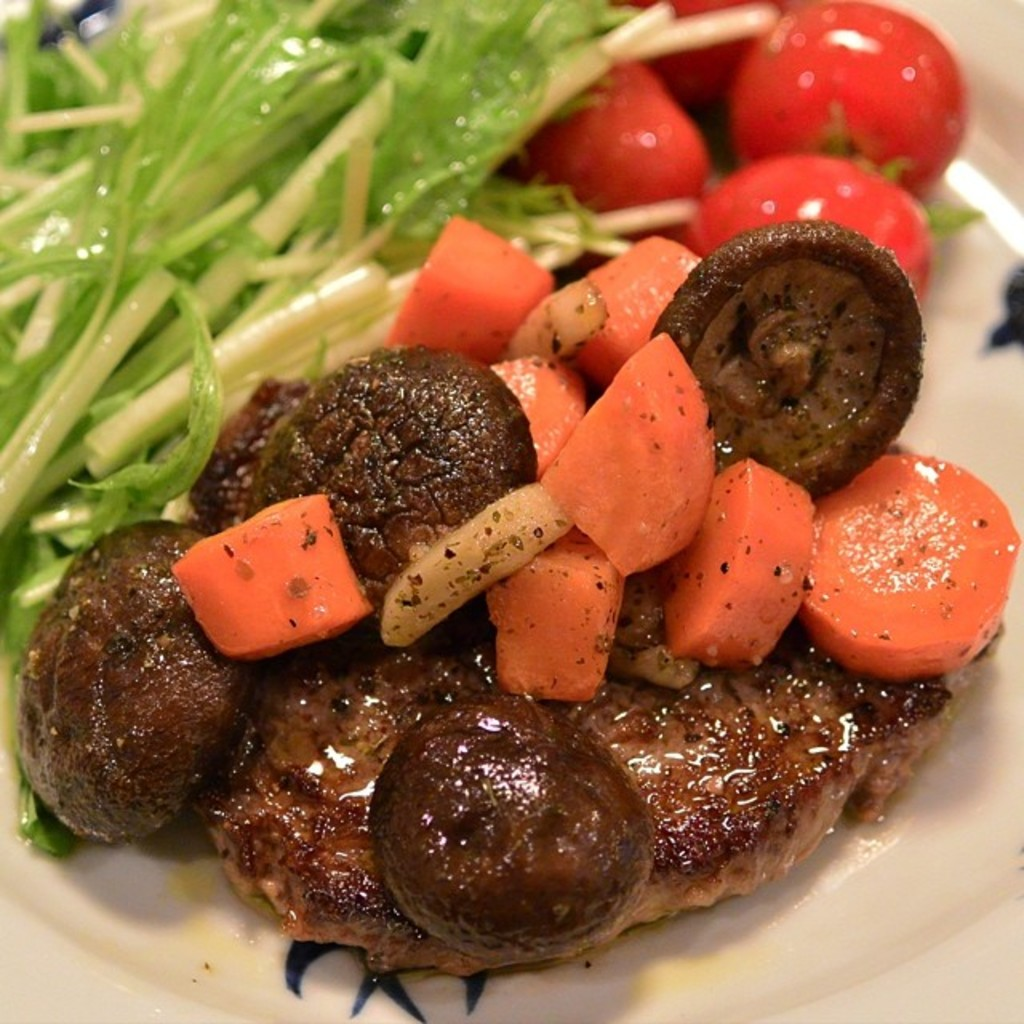Tomato: (684, 99, 984, 306), (726, 0, 968, 203), (528, 55, 707, 241), (612, 0, 789, 104)
